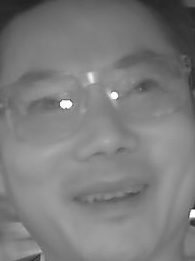glass: (6, 77, 91, 141), (104, 55, 187, 120)
mouth: (66, 173, 153, 213)
